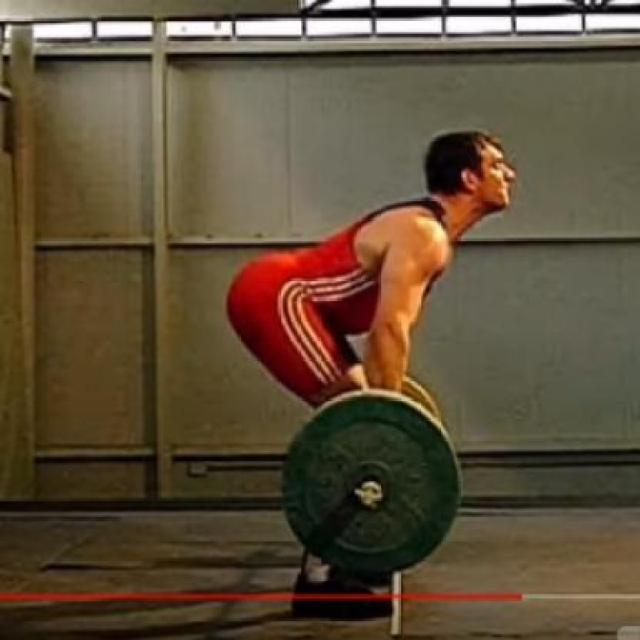barbell: (277, 386, 463, 579)
